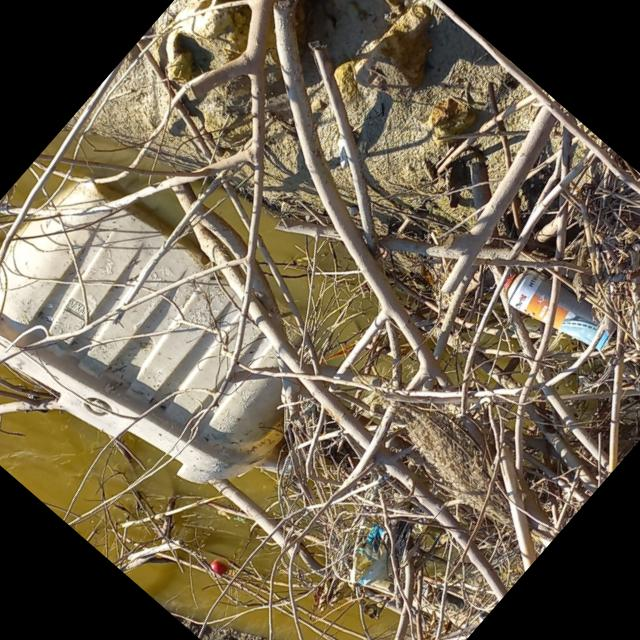Can: (500, 269, 616, 353)
Other plastic: (0, 168, 305, 485)
Plastic bag - wrapper: (339, 512, 418, 596)
Unlabeled litter: (206, 556, 232, 580)
